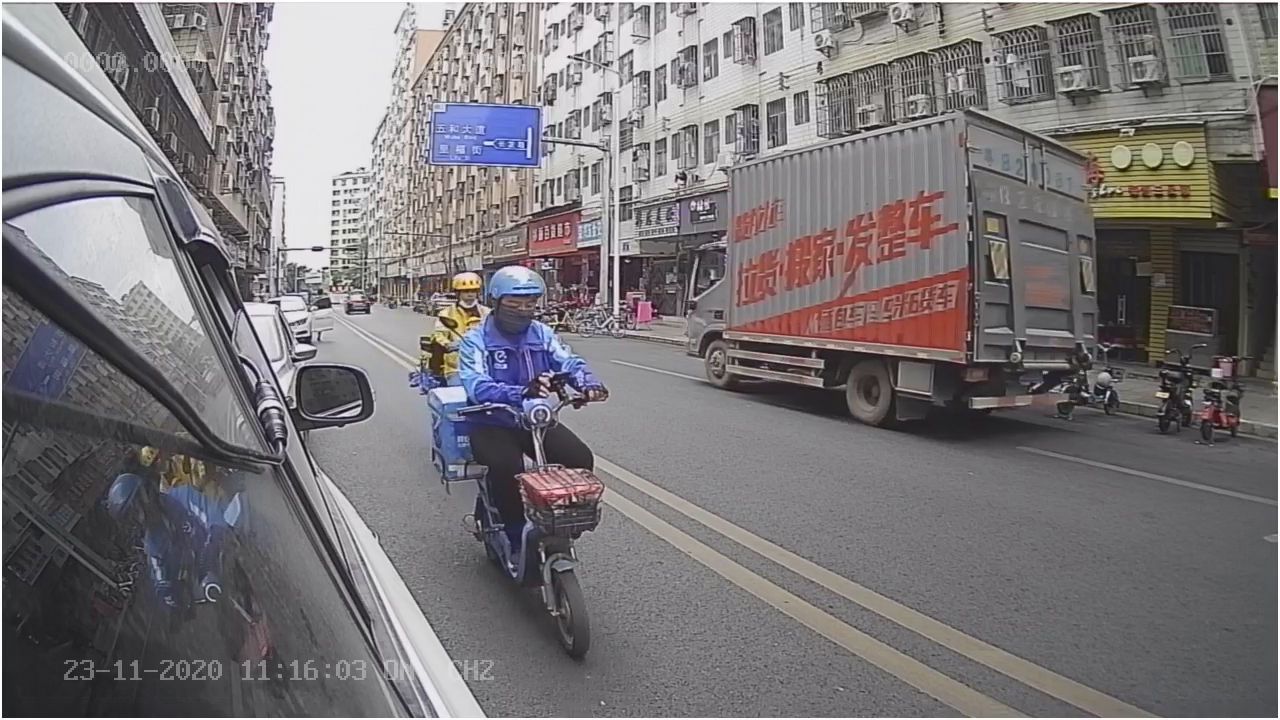person: (452, 262, 600, 378)
